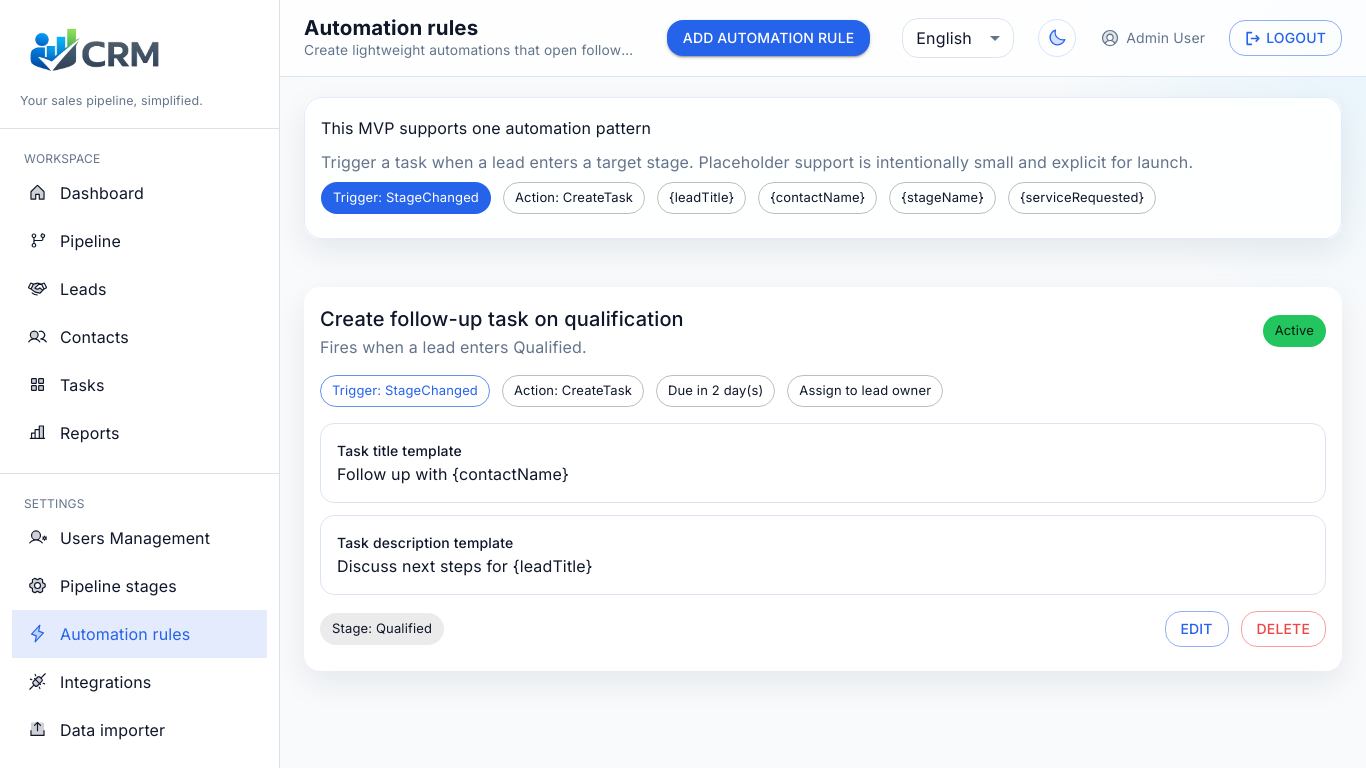
Test: Automation feature › validates the create automation rule form
Expected: the heading "Automation rules" is shown, 304,15 -> 478,40
Click the button "Add automation rule". click: (769, 38)
box: 667,20 -> 870,56
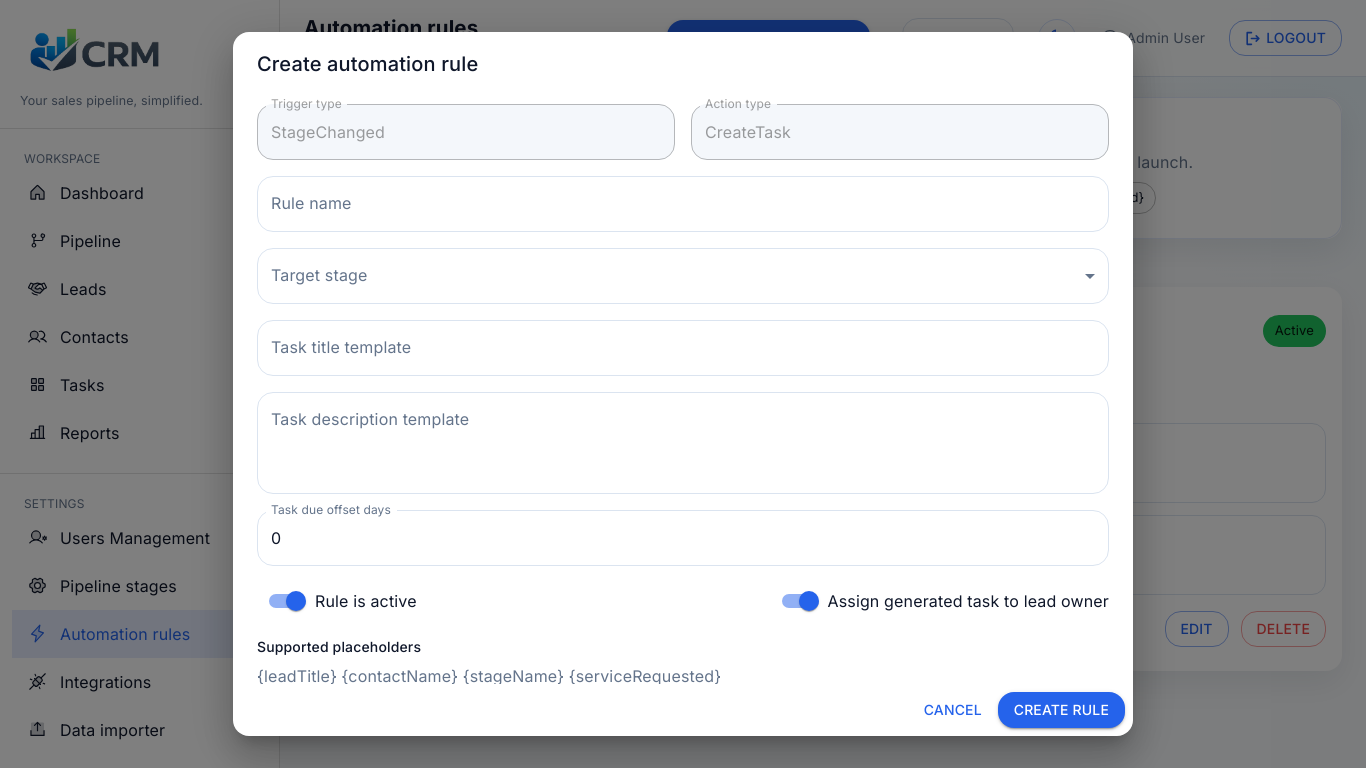
Click the button "Create rule". click: (1061, 710)
box: 998,692 -> 1125,728
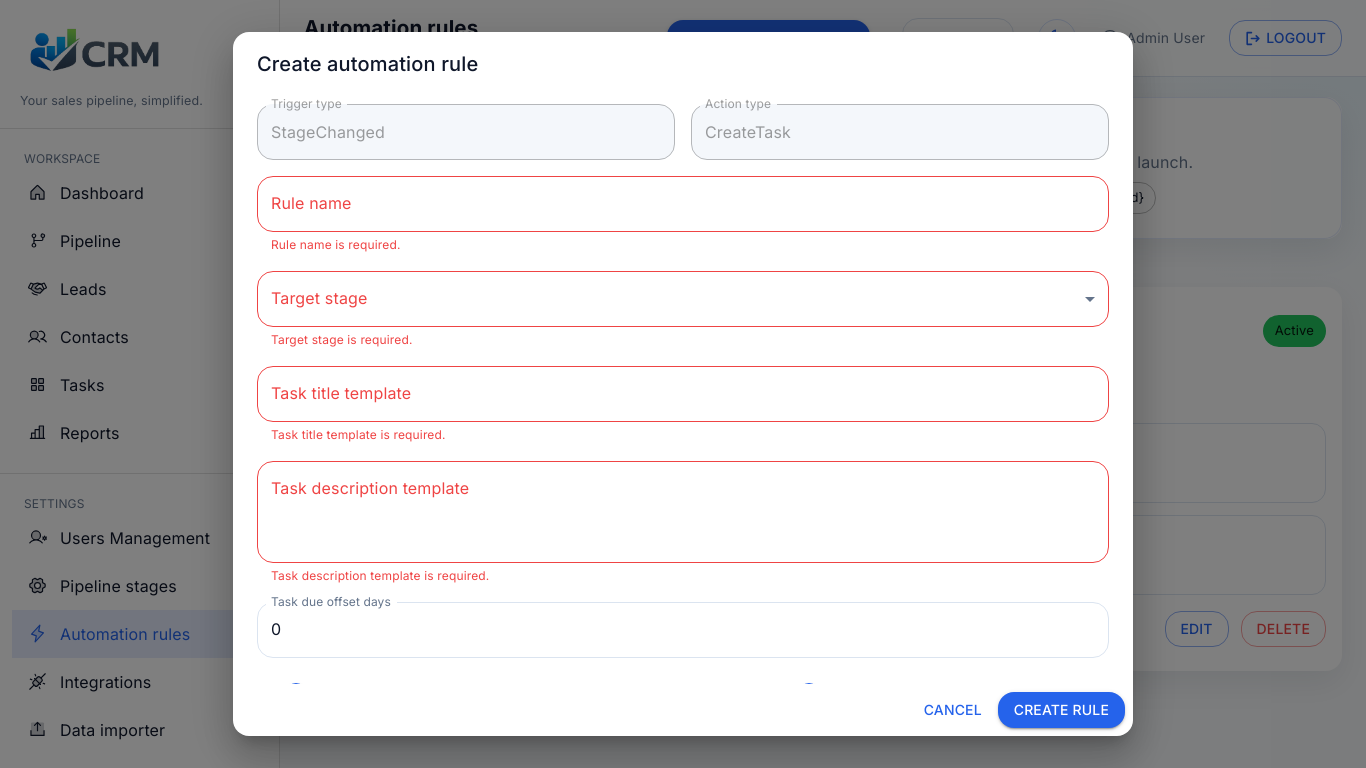
Result: the text "Rule name is required." is shown at 271,237 -> 400,252
Result: the text "Target stage is required." is shown at 271,332 -> 412,347
Result: the text "Task title template is required." is shown at 271,427 -> 446,442
